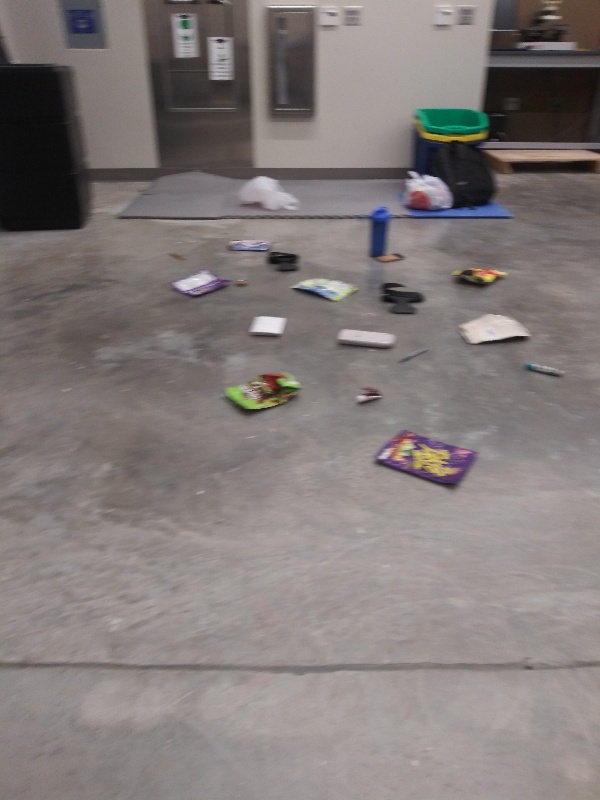bag: (371, 425, 481, 492), (217, 370, 305, 416), (453, 312, 536, 348), (288, 275, 363, 304), (167, 269, 234, 299), (448, 265, 513, 290), (225, 237, 273, 251)
